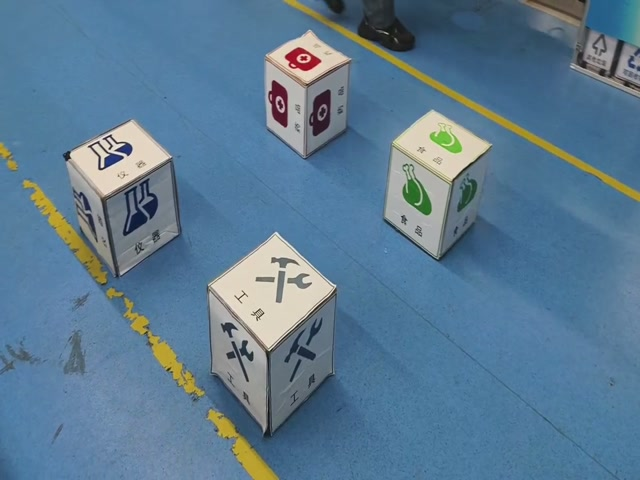Cube_food: (390, 102, 496, 187)
Cube_ins: (61, 112, 174, 203)
Cube_medicine: (264, 33, 349, 87)
Cube_tool: (202, 223, 337, 356)
